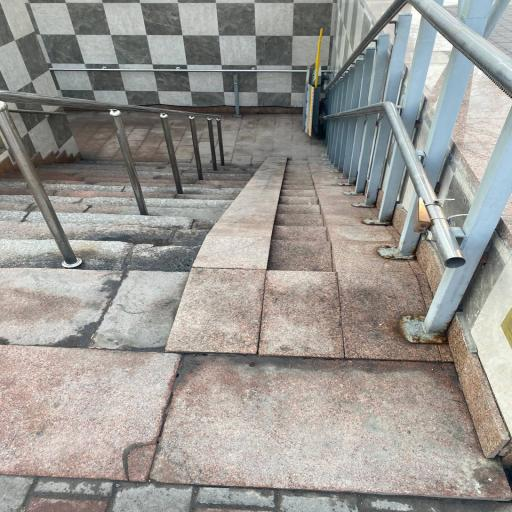entrance: (155, 0, 512, 375)
laptop: (0, 92, 507, 492), (0, 142, 263, 346)
